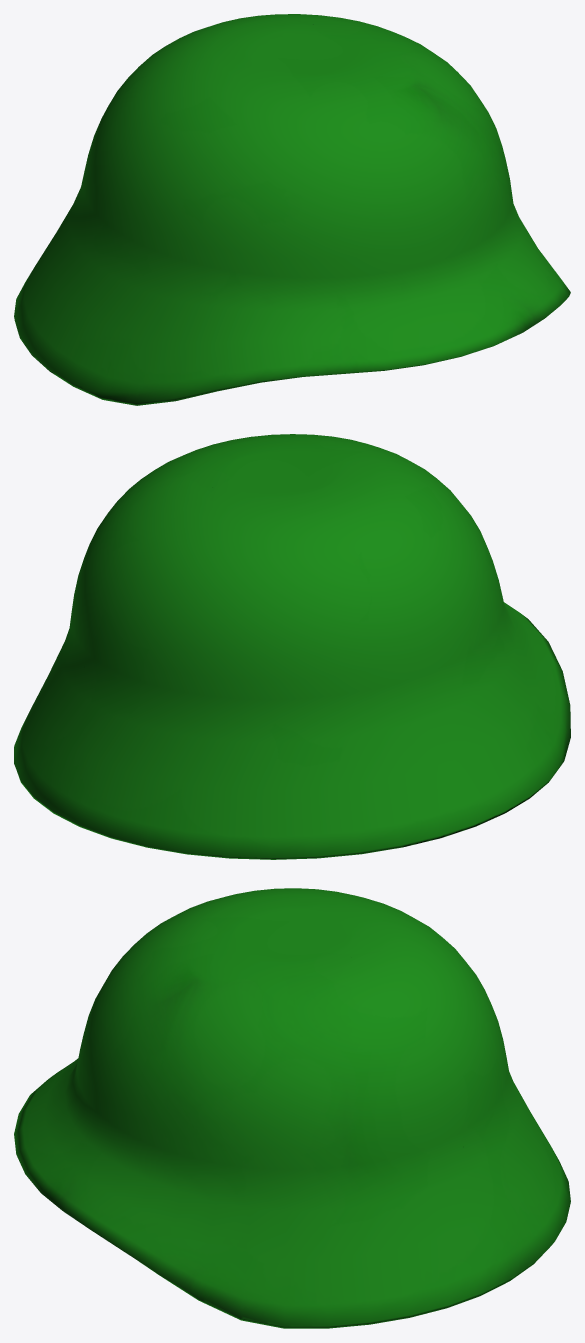
The model's file is helmet.obj.
The picture shows the model from 3 angles, top to bottom: view 1: azimuth 30°, elevation 25°; view 2: azimuth 150°, elevation 25°; view 3: azimuth 270°, elevation 25°; orthographic projection.
Parts seen in each view (by area): view 1: RLA_helmet; view 2: RLA_helmet; view 3: RLA_helmet.
Part boxes in pixels (x1,y1,x2,y2): RLA_helmet: (14,14,570,405); RLA_helmet: (14,434,570,859); RLA_helmet: (14,888,570,1328).
Bounding box in the file's own units: 0.3136 × 0.1777 × 0.3137.
Materials: 1 (1 with a texture image).
